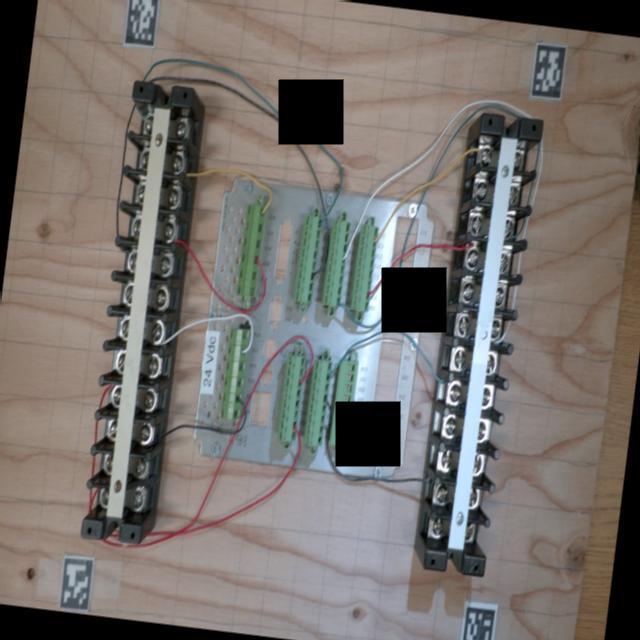Flathead_Block: (80, 80, 193, 543)
Phillips_Block: (423, 112, 542, 576)
Terminal_1: (235, 203, 265, 297), (219, 327, 249, 420)
Terminal_2: (302, 358, 332, 447), (293, 213, 322, 302), (276, 354, 305, 442), (349, 223, 378, 311), (321, 218, 350, 306)
